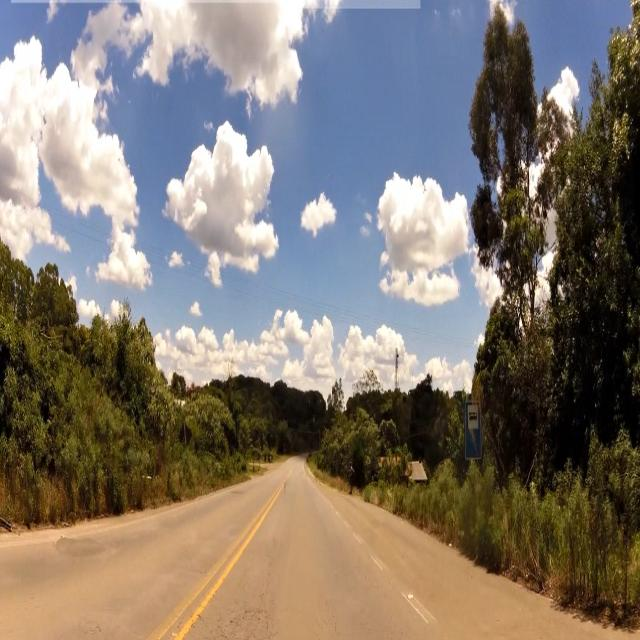S-14: (462, 399, 481, 462)
